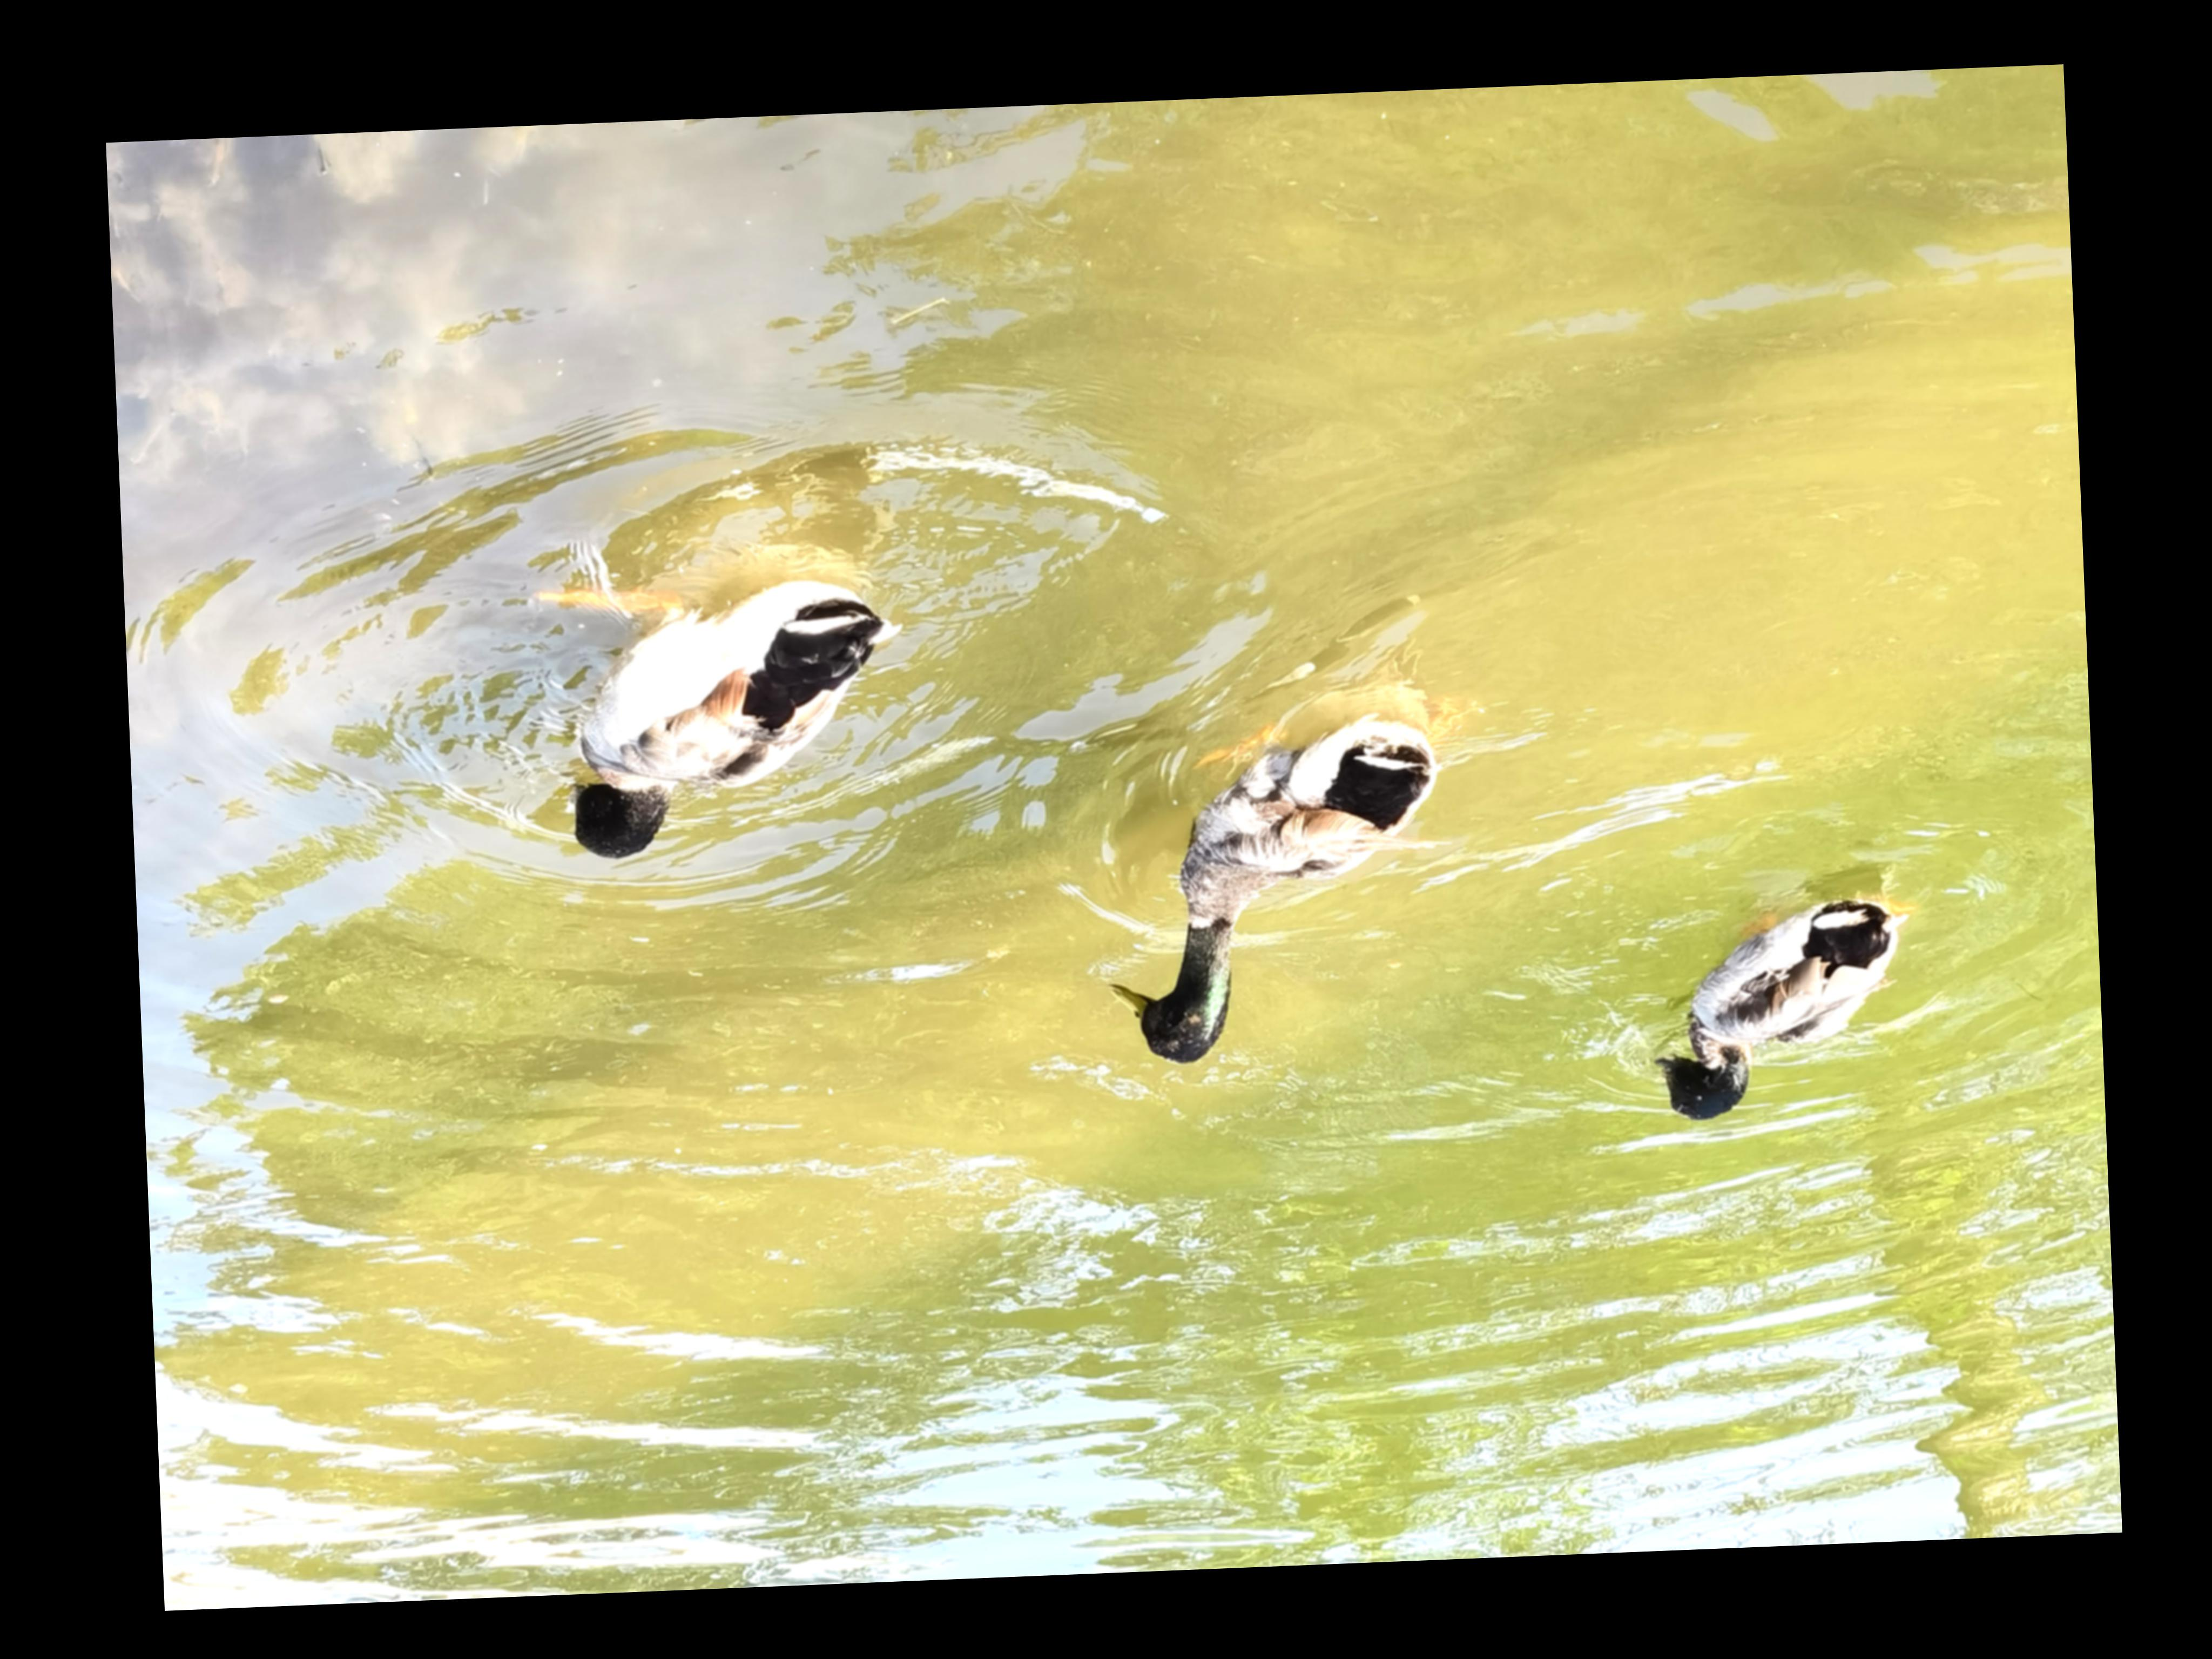duck: (1069, 650, 1503, 1077), (488, 505, 954, 887), (1637, 856, 1933, 1133)
